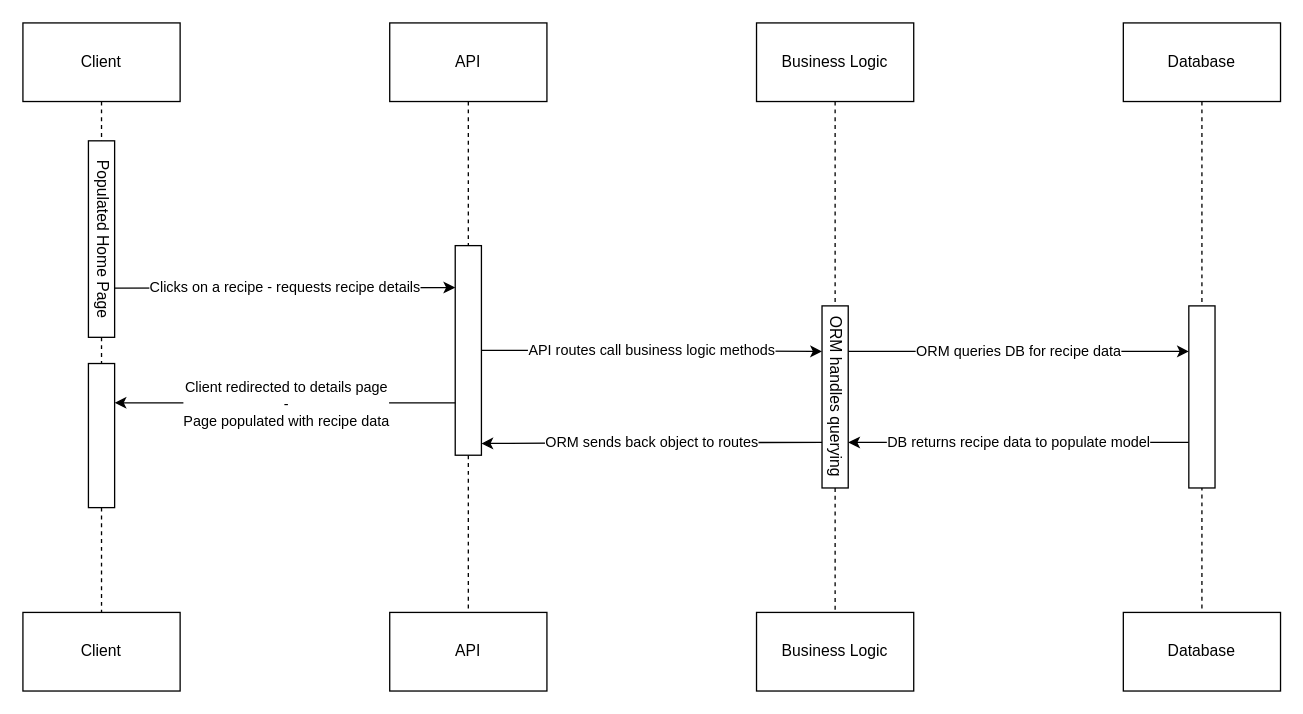
Image size: 1303x714. Some labels were removed from this diagram. Each missing label, with the box of its shape:
/recipes/get/<recipe_id>: (454, 244, 481, 455)
Recipe details: (87, 362, 115, 508)
recipes table: (1188, 305, 1215, 488)
